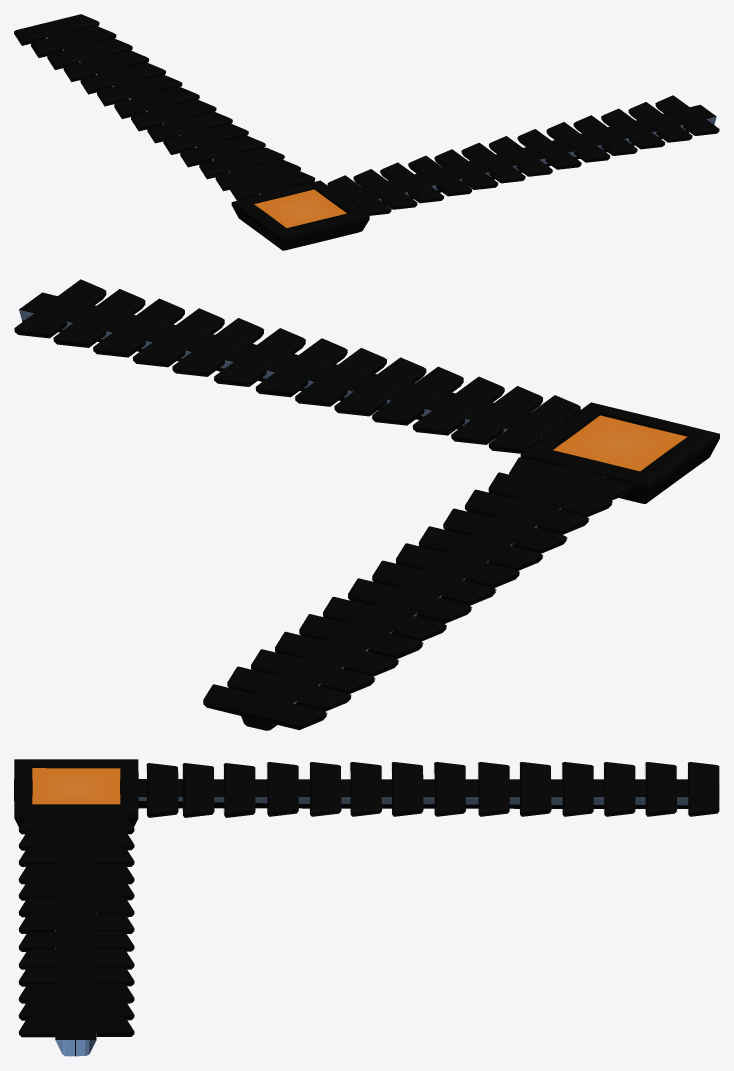
File: SciFi_Stairs_32.glb
The picture shows the model from 3 angles, top to bottom: view 1: azimuth 30°, elevation 25°; view 2: azimuth 150°, elevation 25°; view 3: azimuth 270°, elevation 25°; orthographic projection. The views are drawn at different scales.
Visible parts, largest first — view 1: SciFi_Stairs_32; view 2: SciFi_Stairs_32; view 3: SciFi_Stairs_32.
Boxes of the visible parts, x1=… form: SciFi_Stairs_32: x1=14, y1=14, x2=719, y2=250; SciFi_Stairs_32: x1=14, y1=279, x2=719, y2=730; SciFi_Stairs_32: x1=14, y1=759, x2=719, y2=1056.
Size of the model in its own units: 13.35 by 0.5464 by 14.24.
Materials: 4 (3 with a texture image).
